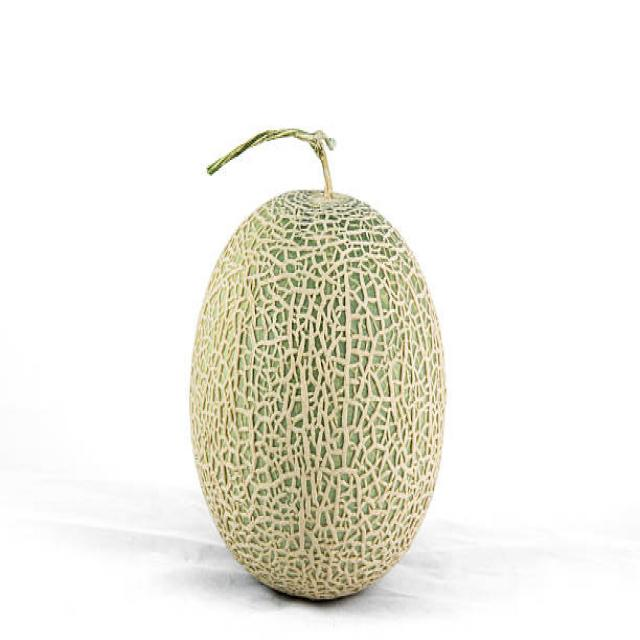Melon: (184, 167, 446, 603)
